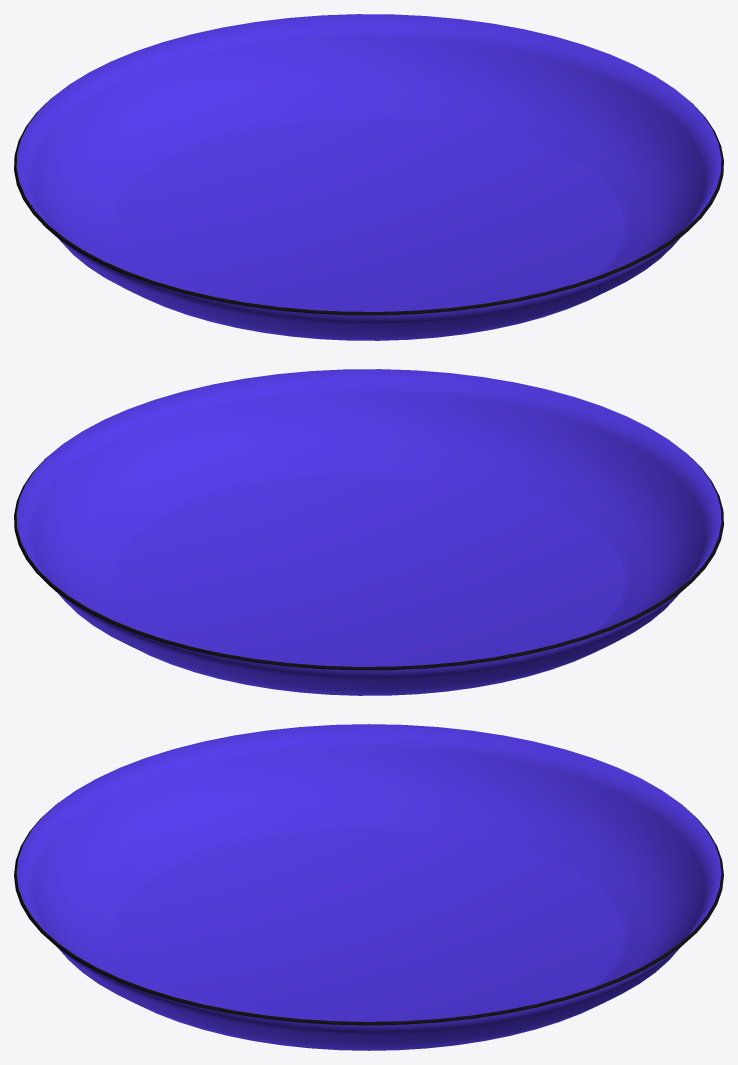
File: Plate.fbx
3 views of the same model, one above another, from view 1: azimuth 30°, elevation 25°; view 2: azimuth 150°, elevation 25°; view 3: azimuth 270°, elevation 25° (orthographic).
Visible parts, largest first — view 1: Plate Blue; view 2: Plate Blue; view 3: Plate Blue.
Part boxes in pixels (x1,y1,x2,y2): Plate Blue: (14, 14, 723, 340); Plate Blue: (14, 369, 723, 695); Plate Blue: (14, 724, 723, 1050).
Size of the model in its own units: 0.1961 by 0.0204 by 0.1961.
